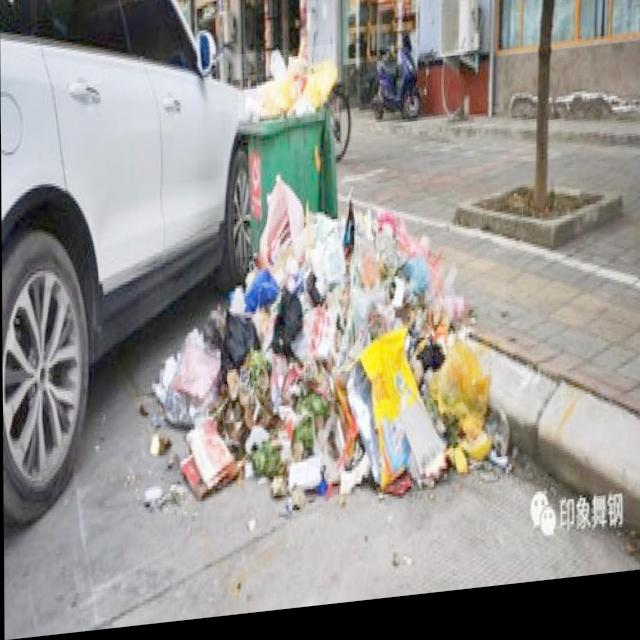garbage: (138, 159, 507, 528)
overflow: (237, 52, 337, 263)
